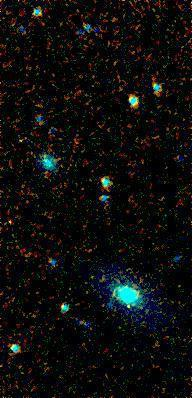star: (114, 290, 144, 320)
